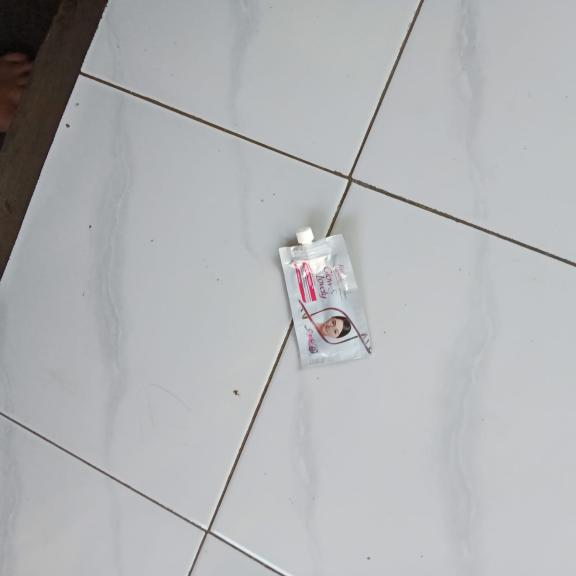Plastik: (280, 234, 374, 368)
